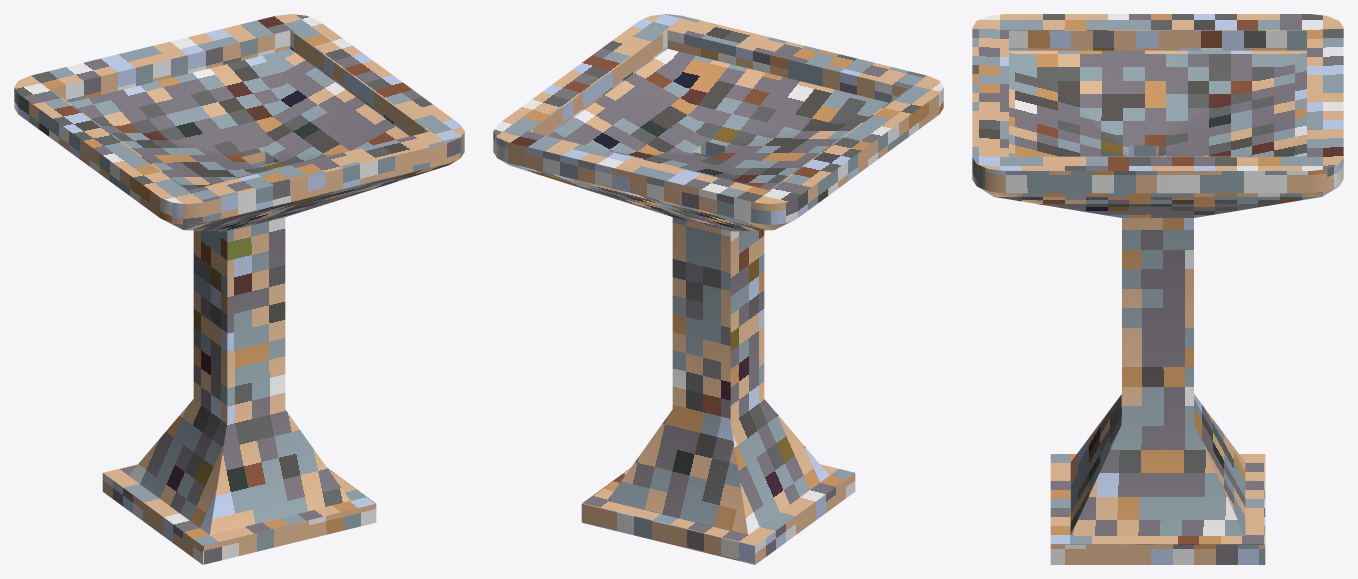
File: Sink.fbx
3 views of the same model, side by side, from view 1: azimuth 30°, elevation 25°; view 2: azimuth 150°, elevation 25°; view 3: azimuth 270°, elevation 25° (orthographic). The views are drawn at different scales.
Parts seen in each view (by area): view 1: Cube; view 2: Cube; view 3: Cube.
Boxes of the visible parts, box(x1,y1,x2,y2) form: Cube: box(14, 14, 464, 564); Cube: box(493, 14, 943, 564); Cube: box(972, 14, 1343, 564).
Size of the model in its own units: 0.31 by 0.31 by 0.3932.
Materials: 1 (1 with a texture image).
